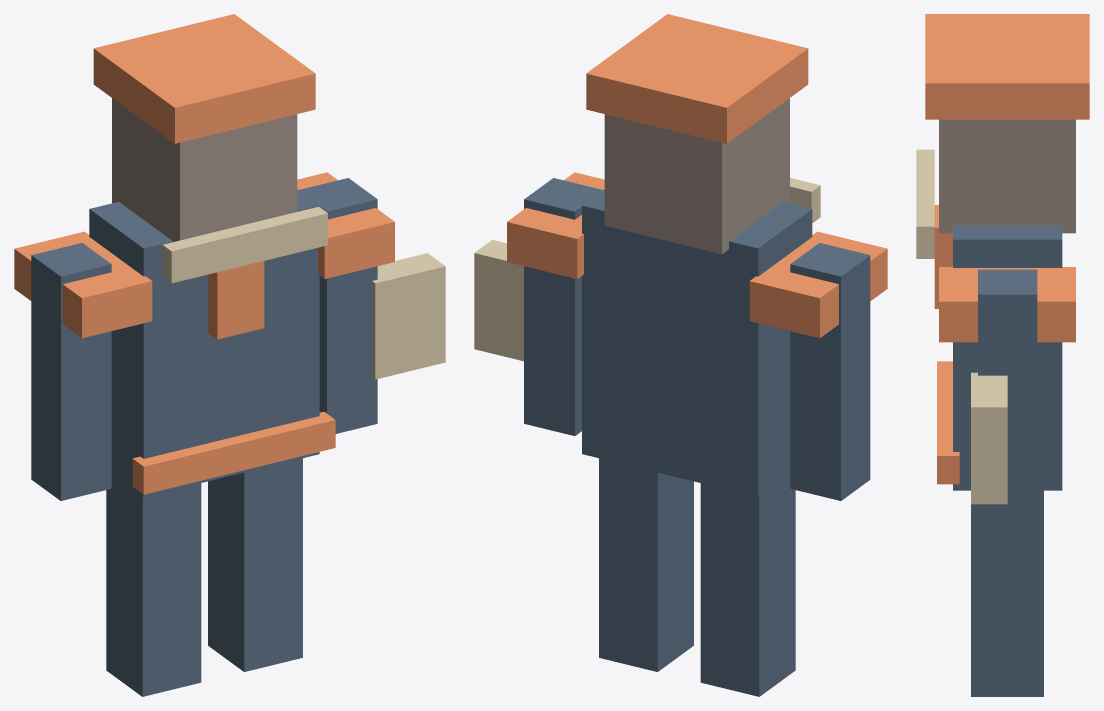
The model's file is 08_ren_runeclasp_responder_under_missile.glb.
3 views of the same model, side by side, from view 1: azimuth 30°, elevation 25°; view 2: azimuth 150°, elevation 25°; view 3: azimuth 270°, elevation 25° (orthographic).
Visible parts, largest first — view 1: Ren Runeclasp, Responder under Missile; view 2: Ren Runeclasp, Responder under Missile; view 3: Ren Runeclasp, Responder under Missile.
Part boxes in pixels (x1,y1,x2,y2): Ren Runeclasp, Responder under Missile: (14,14,445,696); Ren Runeclasp, Responder under Missile: (474,14,887,696); Ren Runeclasp, Responder under Missile: (916,14,1089,696).
Size of the model in its own units: 0.9549 by 1.44 by 0.3722.
